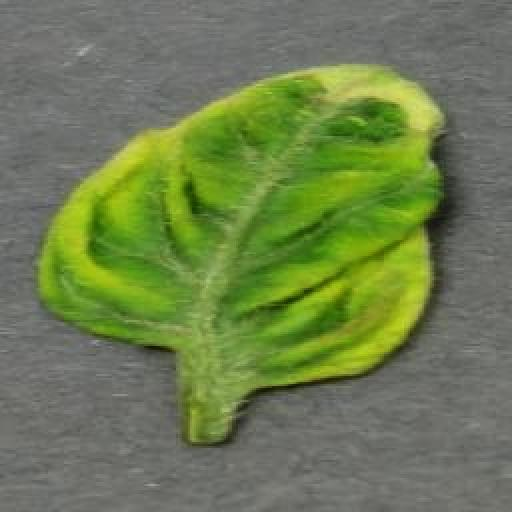disease_tomato: (40, 60, 446, 394)
